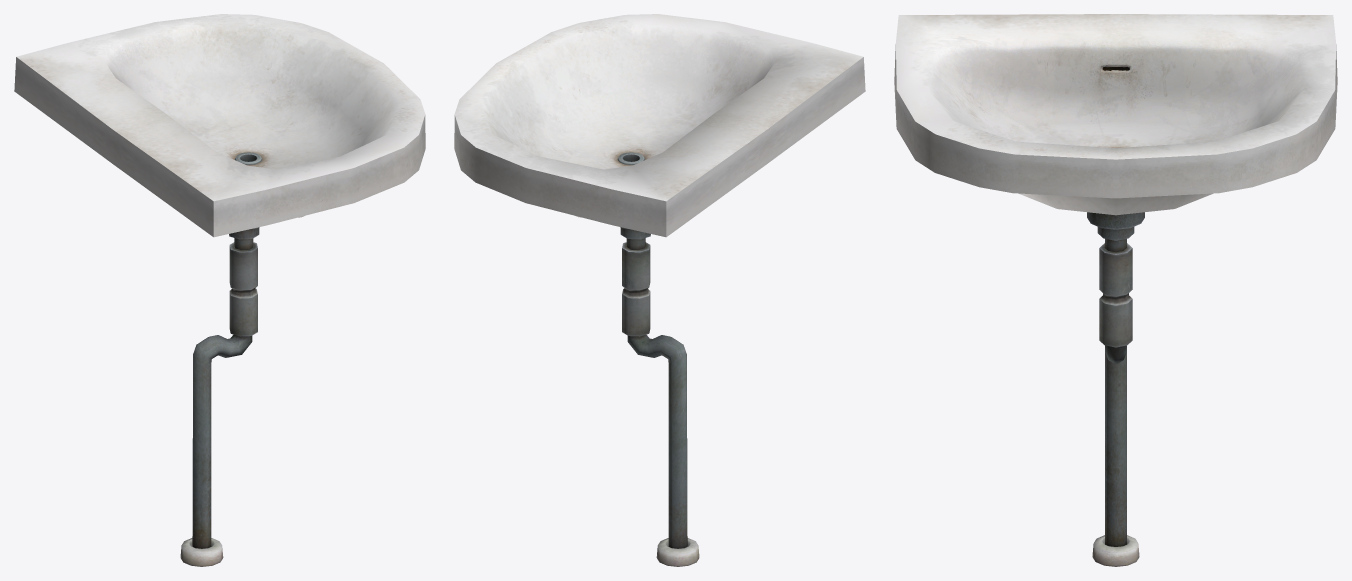
Rendered from sink_toilet.dae.
3 renders of one model, left to right at view 1: azimuth 30°, elevation 25°; view 2: azimuth 150°, elevation 25°; view 3: azimuth 270°, elevation 25°, orthographic. The views are drawn at different scales.
Parts seen in each view (by area): view 1: sink_toilet; view 2: sink_toilet; view 3: sink_toilet.
Boxes of the visible parts, x1,y1,x2,y2 form: sink_toilet: [14, 14, 425, 566]; sink_toilet: [454, 14, 865, 566]; sink_toilet: [894, 14, 1337, 566].
Size of the model in its own units: 0.5325 by 0.8461 by 0.6843.
